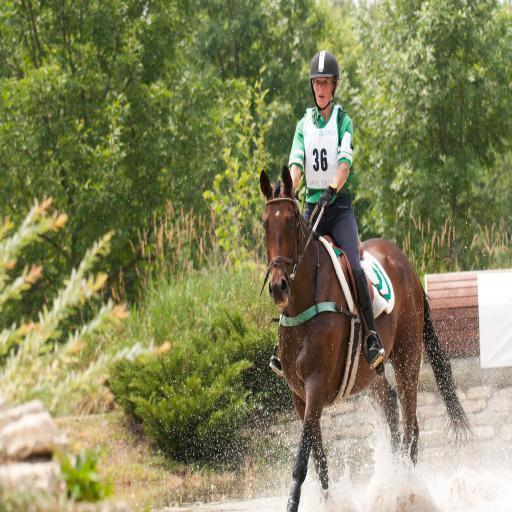horse: (259, 164, 474, 510)
